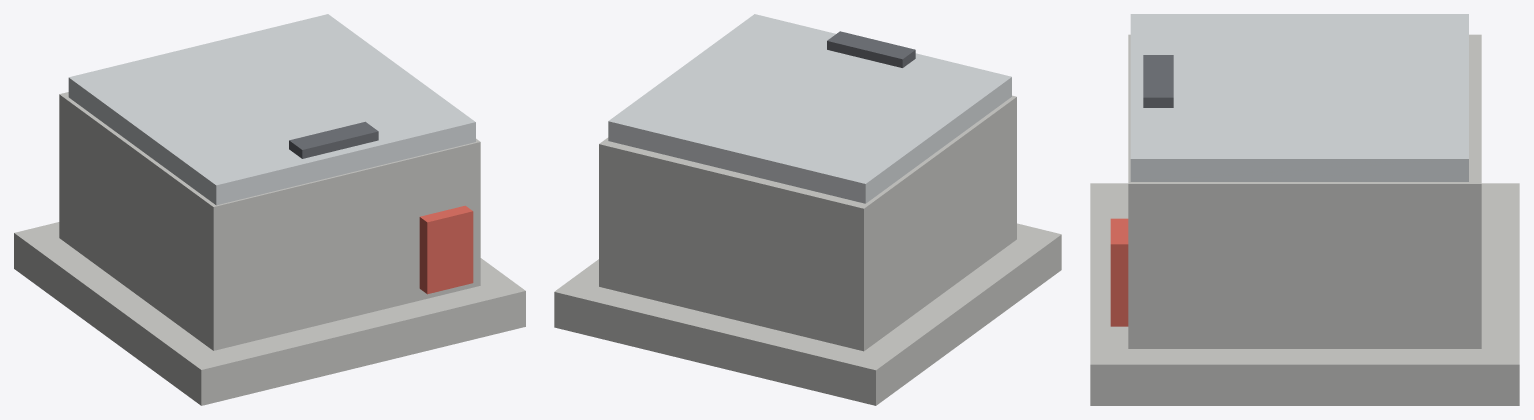
File: radio-telescope-array-and-field-station-signal-junctio-5944ca6e__37625.glb
The picture shows the model from 3 angles, left to right: view 1: azimuth 30°, elevation 25°; view 2: azimuth 150°, elevation 25°; view 3: azimuth 270°, elevation 25°; orthographic projection. The views are drawn at different scales.
Visible parts, largest first — view 1: signal-junction-pit, lid/steel, lid/charcoal; view 2: signal-junction-pit, lid/steel, lid/charcoal; view 3: signal-junction-pit, lid/steel, lid/charcoal.
Boxes of the visible parts, box(x1,y1,x2,y2) form: signal-junction-pit: box(14, 92, 525, 405); lid/steel: box(68, 14, 475, 205); lid/charcoal: box(289, 121, 378, 158); signal-junction-pit: box(554, 95, 1061, 405); lid/steel: box(608, 14, 1011, 203); lid/charcoal: box(827, 31, 915, 67); signal-junction-pit: box(1090, 34, 1519, 405); lid/steel: box(1130, 14, 1468, 181); lid/charcoal: box(1143, 55, 1173, 107).
Bounding box in the file's own units: 1.7 × 1.04 × 1.7.
